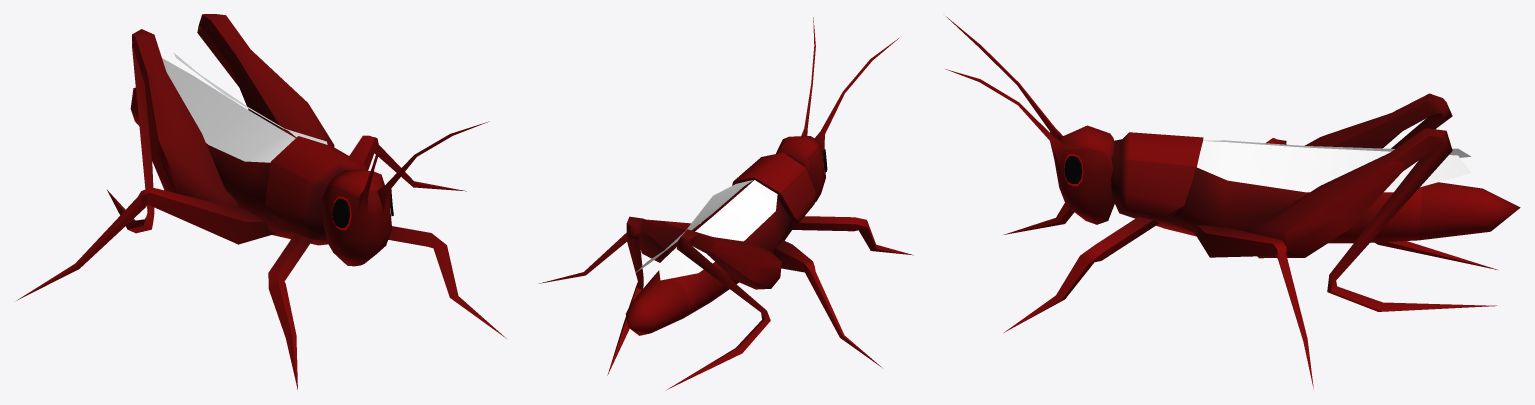
The model's file is Insects_Grasshopper.fbx.
The picture shows the model from 3 angles, left to right: view 1: azimuth 30°, elevation 25°; view 2: azimuth 150°, elevation 25°; view 3: azimuth 270°, elevation 25°; orthographic projection. The views are drawn at different scales.
Visible parts, largest first — view 1: base, transp; view 2: base, transp; view 3: base, transp.
Boxes of the visible parts, box(x1,y1,x2,y2) form: base: box(16, 14, 506, 389); transp: box(162, 52, 327, 162); base: box(538, 17, 913, 389); transp: box(635, 180, 777, 280); base: box(945, 16, 1520, 388); transp: box(1197, 140, 1471, 192).
Size of the model in its own units: 417 by 225 by 477.
